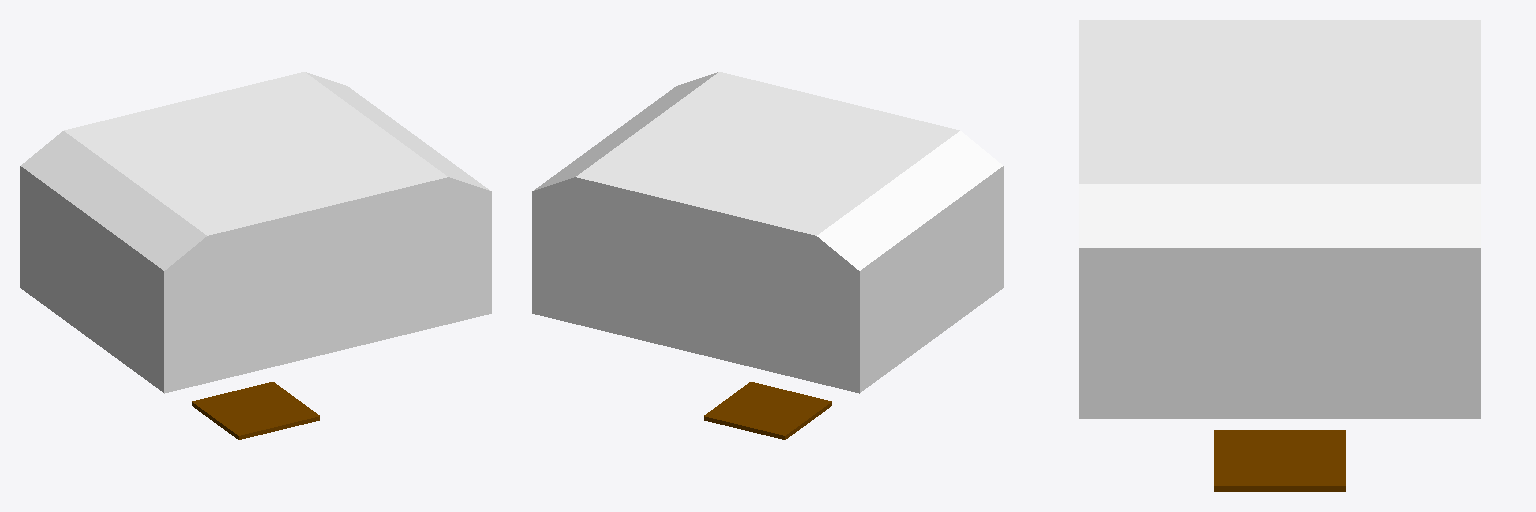
robot.urdf — r2:
<?xml version="1.0" ?>
<!-- =================================================================================== -->
<!-- |    This document was autogenerated by xacro from r2.xacro                       | -->
<!-- |    EDITING THIS FILE BY HAND IS NOT RECOMMENDED                                 | -->
<!-- =================================================================================== -->
<!-- XML namespaces -->
<robot name="r2">
  <!-- ============================  A Few Color Macros  ============================ -->
  <link name="base_footprint">
    <visual>
      <origin rpy="0 0 0" xyz="0 0 0"/>
      <geometry>
        <box size="0.1 0.1 0.005"/>
      </geometry>
      <material name="gold">
        <color rgba="0.5 0.3 0 1.0"/>
      </material>
    </visual>
    <collision>
      <origin rpy="0 0 0" xyz="0 0 0"/>
      <geometry>
        <box size="0.1 0.1 0.005"/>
      </geometry>
      <inertial>
        <mass value="0.01"/>
        <inertia ixx="0.0001" ixy="0.0" ixz="0.0" iyy="0.0001" iyz="0.0" izz="0.0001"/>
      </inertial>
    </collision>
  </link>
  <gazebo reference="base_footprint">
    <material>Gazebo/FlatBlack</material>
    <selfCollide>false</selfCollide>
    <turnGravityOff>false</turnGravityOff>
  </gazebo>
  <link name="base_link">
    <visual>
      <geometry>
        <mesh filename="package://robbie/mesh/base2.stl" scale="0.001 0.001 0.001"/>
      </geometry>
      <material name="White">
        <color rgba="1.0 1.0 1.0 1.0"/>
      </material>
      <origin rpy="0 0 0" xyz="0 0 0"/>
    </visual>
    <collision>
      <origin rpy="0 0 0" xyz="0 0 0"/>
      <geometry>
        <mesh filename="package://robbie/mesh/base2.stl" scale="0.001 0.001 0.001"/>
      </geometry>
    </collision>
  </link>
  <gazebo reference="base_link">
    <material>Gazebo/FlatBlack</material>
    <selfCollide>false</selfCollide>
    <turnGravityOff>false</turnGravityOff>
  </gazebo>
  <link name="left_wheel_link">
    <visual>
      <origin rpy="1.57 0 0" xyz="0 0 0"/>
      <geometry>
        <cylinder length="0.028" radius="0.035"/>
      </geometry>
      <material name="grey1">
        <color rgba="0.75 0.75 0.75 1.0"/>
      </material>
    </visual>
    <collision>
      <origin rpy="1.57 0 0" xyz="0 0 0"/>
      <geometry>
        <cylinder length="0.028" radius="0.035"/>
      </geometry>
    </collision>
    <inertial>
      <mass value="0.1"/>
      <inertia ixx="0.0001" ixy="0.0" ixz="0.0" iyy="0.0001" iyz="0.0" izz="0.0001"/>
    </inertial>
  </link>
  <gazebo reference="left_wheel_link">
    <material>Gazebo/Grey</material>
    <selfCollide>false</selfCollide>
    <turnGravityOff>false</turnGravityOff>
  </gazebo>
  <link name="right_wheel_link">
    <visual>
      <origin rpy="1.57 0 0" xyz="0 0 0"/>
      <geometry>
        <cylinder length="0.028" radius="0.035"/>
      </geometry>
      <material name="grey1">
        <color rgba="0.75 0.75 0.75 1.0"/>
      </material>
    </visual>
    <collision>
      <origin rpy="1.57 0 0" xyz="0 0 0"/>
      <geometry>
        <cylinder length="0.028" radius="0.035"/>
      </geometry>
    </collision>
    <inertial>
      <mass value="0.1"/>
      <inertia ixx="0.0001" ixy="0.0" ixz="0.0" iyy="0.0001" iyz="0.0" izz="0.0001"/>
    </inertial>
  </link>
  <gazebo reference="right_wheel_link">
    <material>Gazebo/Grey</material>
    <selfCollide>false</selfCollide>
    <turnGravityOff>false</turnGravityOff>
  </gazebo>
  <link name="imu_base">
    <visual>
      <origin rpy="0 0 0" xyz="0 0 0"/>
      <geometry>
        <box size="0.01 0.01 0.005"/>
      </geometry>
      <material name="black">
        <color rgba="0.1 0.1 0.1 1.0"/>
      </material>
    </visual>
    <collision>
      <origin rpy="0 0 0" xyz="0 0 0"/>
      <geometry>
        <box size="0.01 0.01 0.005"/>
      </geometry>
      <inertial>
        <mass value="0.01"/>
        <inertia ixx="0.0001" ixy="0.0" ixz="0.0" iyy="0.0001" iyz="0.0" izz="0.0001"/>
      </inertial>
    </collision>
  </link>
  <gazebo reference="imu_base">
    <material>Gazebo/FlatBlack</material>
    <selfCollide>false</selfCollide>
    <turnGravityOff>false</turnGravityOff>
  </gazebo>
  <link name="scanner_link">
    <visual>
      <geometry>
        <mesh filename="package://r2_description/mesh/rplidar.stl" scale="0.001 0.001 0.001"/>
      </geometry>
      <material name="White">
        <color rgba="1.0 1.0 1.0 1.0"/>
      </material>
      <origin rpy="1.57 0 0" xyz="0 0 0"/>
    </visual>
    <collision>
      <origin rpy="0 0 0" xyz="0 0 0"/>
      <geometry>
        <mesh filename="package://r2_description/mesh/rplidar.stl" scale="0.001 0.001 0.001"/>
      </geometry>
    </collision>
  </link>
  <link name="camera_link">
    <visual>
      <geometry>
        <mesh filename="package://r2_description/mesh/d435.stl" scale="0.001 0.001 0.001"/>
      </geometry>
      <material name="White">
        <color rgba="1.0 1.0 1.0 1.0"/>
      </material>
      <origin rpy="1.57 0 1.57" xyz="0 0 0"/>
    </visual>
    <collision>
      <origin rpy="0 0 0" xyz="0 0 0"/>
      <geometry>
        <mesh filename="package://r2_description/mesh/d435.stl" scale="0.001 0.001 0.001"/>
      </geometry>
    </collision>
  </link>
  <!-- ##############################   joints ##################333333-->
  <joint name="base_footprint" type="fixed">
    <parent link="base_footprint"/>
    <child link="base_link"/>
    <origin rpy="0 0 0" xyz="0.0 0 0.2"/>
  </joint>
  <joint name="imu_link" type="fixed">
    <parent link="base_link"/>
    <child link="imu_base"/>
    <origin rpy="3.14 0 1.57" xyz="0.0 0 0.02"/>
  </joint>
  <joint name="left_wheel_link" type="fixed">
    <parent link="base_link"/>
    <child link="left_wheel_link"/>
    <origin rpy="0 0 0" xyz="0.06 0.13 -0.035"/>
  </joint>
  <joint name="right_wheel_link" type="fixed">
    <parent link="base_link"/>
    <child link="right_wheel_link"/>
    <origin rpy="0 0 0" xyz="0.06 -0.13 -0.035"/>
  </joint>
  <joint name="scanner_link" type="fixed">
    <parent link="base_link"/>
    <child link="scanner_link"/>
    <origin rpy="0 0 0" xyz="-0.038 0.038 0.15"/>
  </joint>
  <joint name="camera_link" type="fixed">
    <parent link="base_link"/>
    <child link="camera_link"/>
    <origin rpy="0 0 0" xyz="0.07 0.0 0.13"/>
  </joint>
</robot>

--- Facts derived from the render (not from the file) ---
Views: 3 orthographic renders of the robot side by side, from view 1: azimuth 30°, elevation 25°; view 2: azimuth 150°, elevation 25°; view 3: azimuth 270°, elevation 25°.
Robot: r2 — 7 links, 6 joints (6 fixed); root link base_footprint; default pose: every joint at zero.
Links seen in each view (by area): view 1: base_link, base_footprint; view 2: base_link, base_footprint; view 3: base_link, base_footprint.
Boxes of the visible links, x1=… form: base_link: x1=20, y1=72, x2=491, y2=393; base_footprint: x1=192, y1=382, x2=319, y2=439; base_link: x1=532, y1=72, x2=1003, y2=393; base_footprint: x1=704, y1=382, x2=831, y2=439; base_link: x1=1079, y1=20, x2=1480, y2=418; base_footprint: x1=1214, y1=430, x2=1345, y2=491.
Bounding box of the posed robot: 0.4 × 0.305 × 0.303 m (x, y, z).
Meshes: 3 distinct files referenced, 1 mesh visuals loaded (1 binary STL); not drawn: 2 (reference not matched to a file when rendering).
